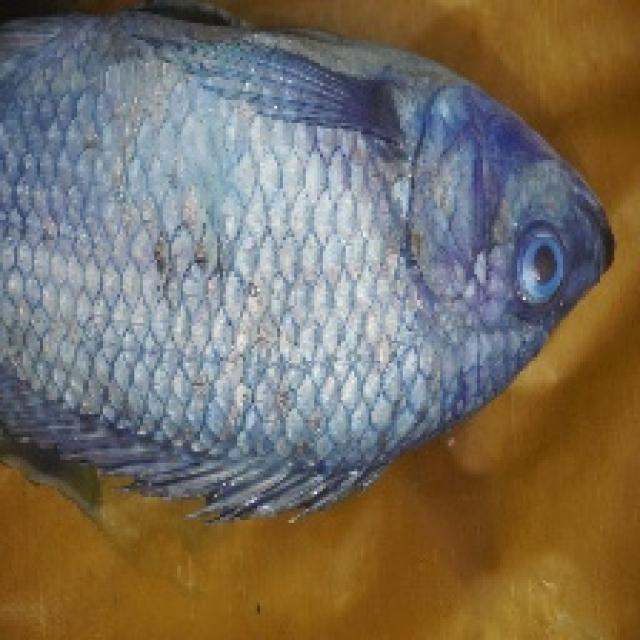Non-Fresh: (496, 206, 587, 315)
